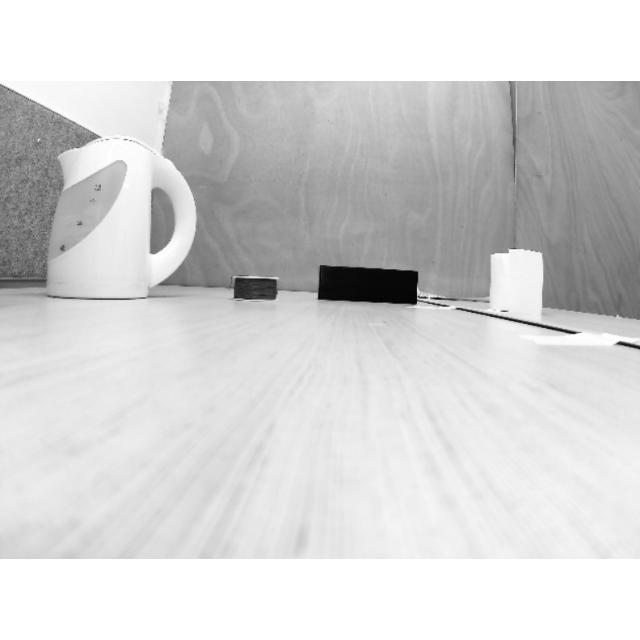targets: (50, 134, 200, 300), (317, 264, 418, 304), (489, 248, 541, 314), (232, 272, 282, 302)
